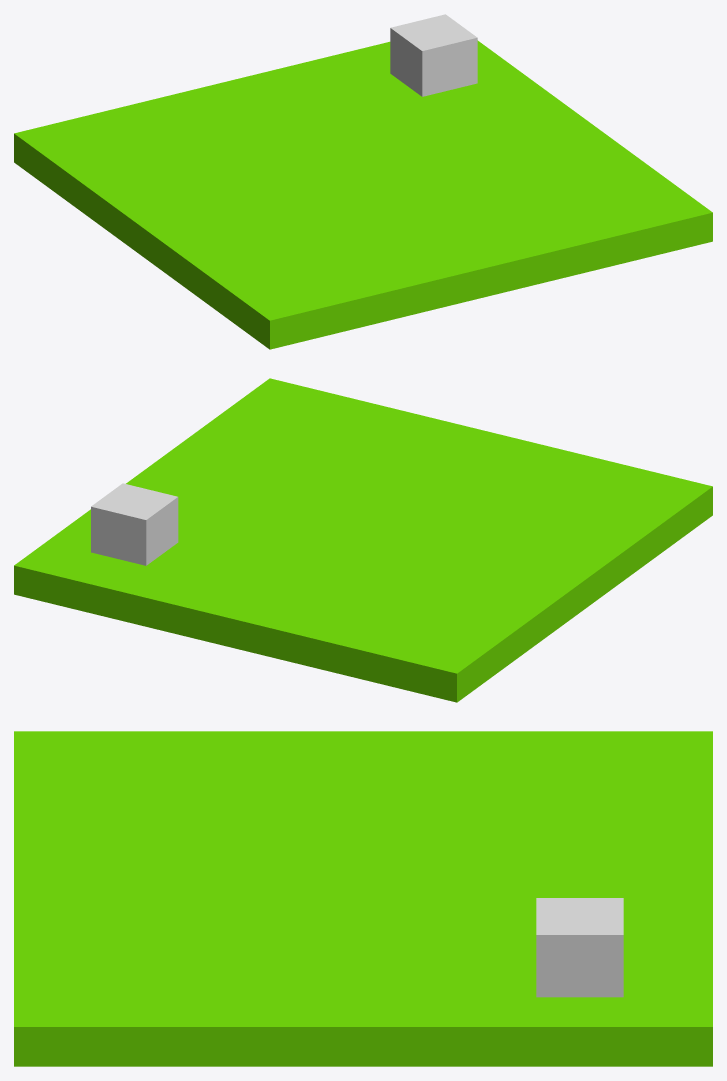
Rendered from BlockTypeMiddle-5.fbx.
3 renders of one model, top to bottom at view 1: azimuth 30°, elevation 25°; view 2: azimuth 150°, elevation 25°; view 3: azimuth 270°, elevation 25°, orthographic. The views are drawn at different scales.
Parts seen in each view (by area): view 1: Cube, Cube.002; view 2: Cube, Cube.002; view 3: Cube, Cube.002.
Boxes of the visible parts, x1=… form: Cube: x1=14, y1=40, x2=712, y2=349; Cube.002: x1=390, y1=14, x2=477, y2=96; Cube: x1=14, y1=378, x2=712, y2=702; Cube.002: x1=91, y1=483, x2=178, y2=565; Cube: x1=14, y1=731, x2=712, y2=1066; Cube.002: x1=536, y1=898, x2=623, y2=997.
Bounding box in the file's own units: 800 × 129 × 800.
